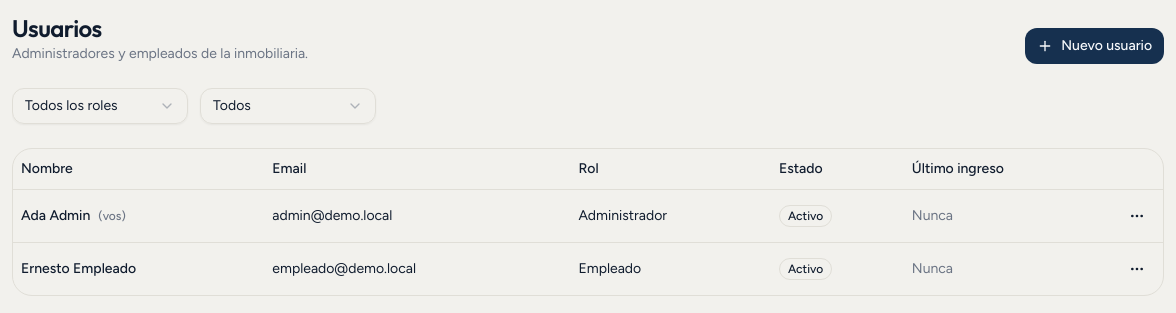
Test case: UsersScreen › sobre sí mismo sólo ofrece editar
Click the button named "Acciones para Ada Admin".
click(1137, 216)  # box [1119, 198, 1155, 234]
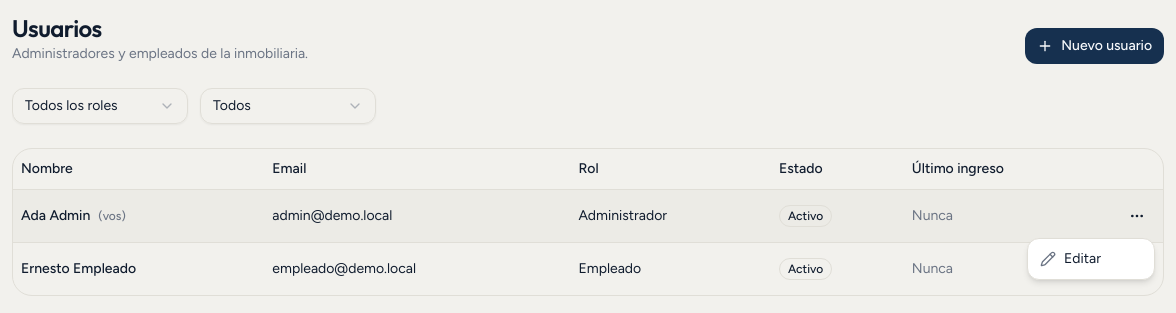
Result: the menu item "Editar" is shown at [1040, 250, 1101, 267]
